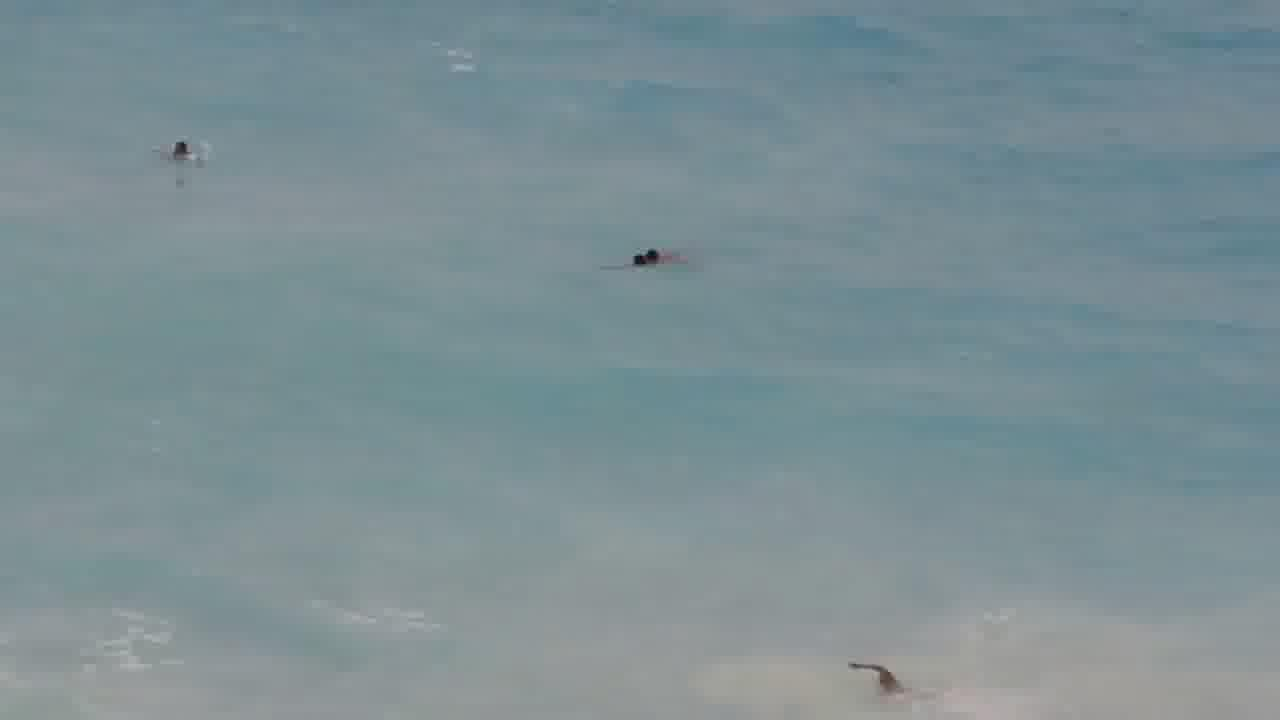swimmer: (842, 653, 930, 699), (618, 243, 676, 278), (157, 133, 208, 172)
